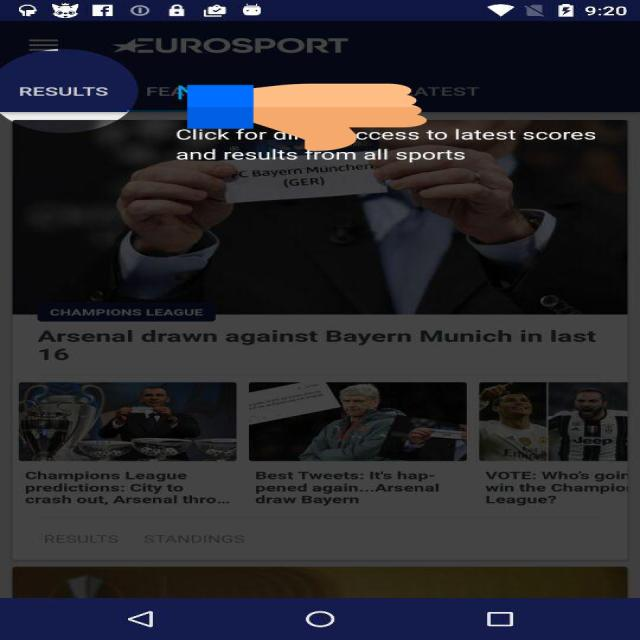obstruction: (187, 82, 427, 153)
